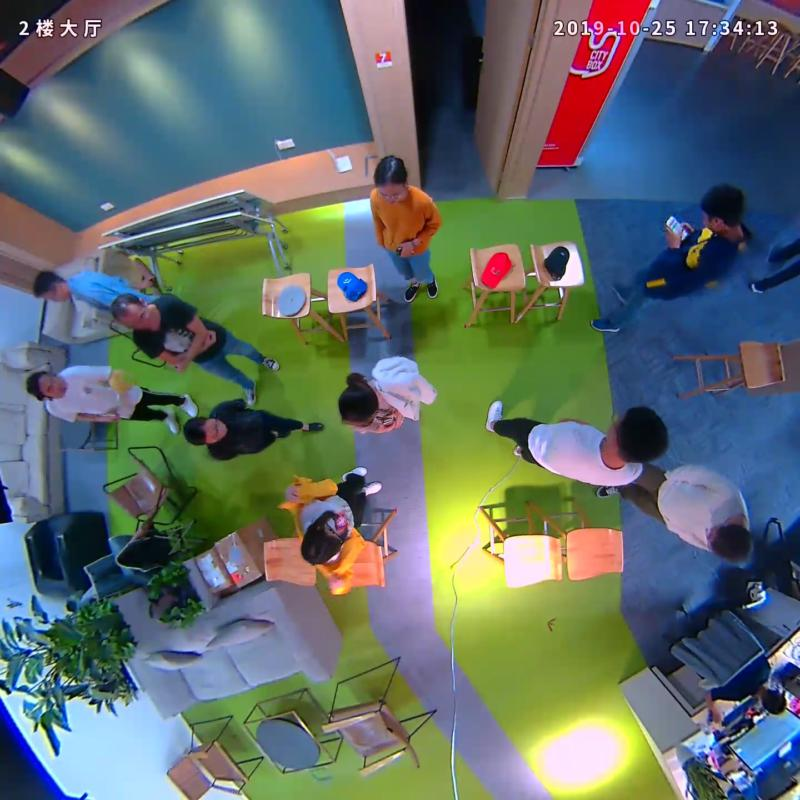head: (607, 406, 668, 464), (699, 183, 746, 232), (299, 520, 344, 566), (337, 381, 378, 428), (373, 155, 409, 206), (110, 293, 156, 331), (705, 523, 753, 559), (25, 369, 66, 402), (181, 415, 226, 445), (32, 271, 68, 304)
